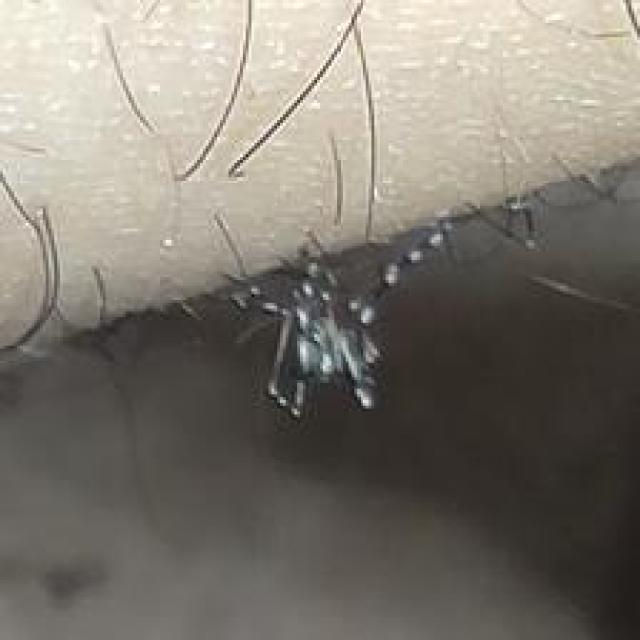Aedes albopictus: (207, 194, 542, 423)
